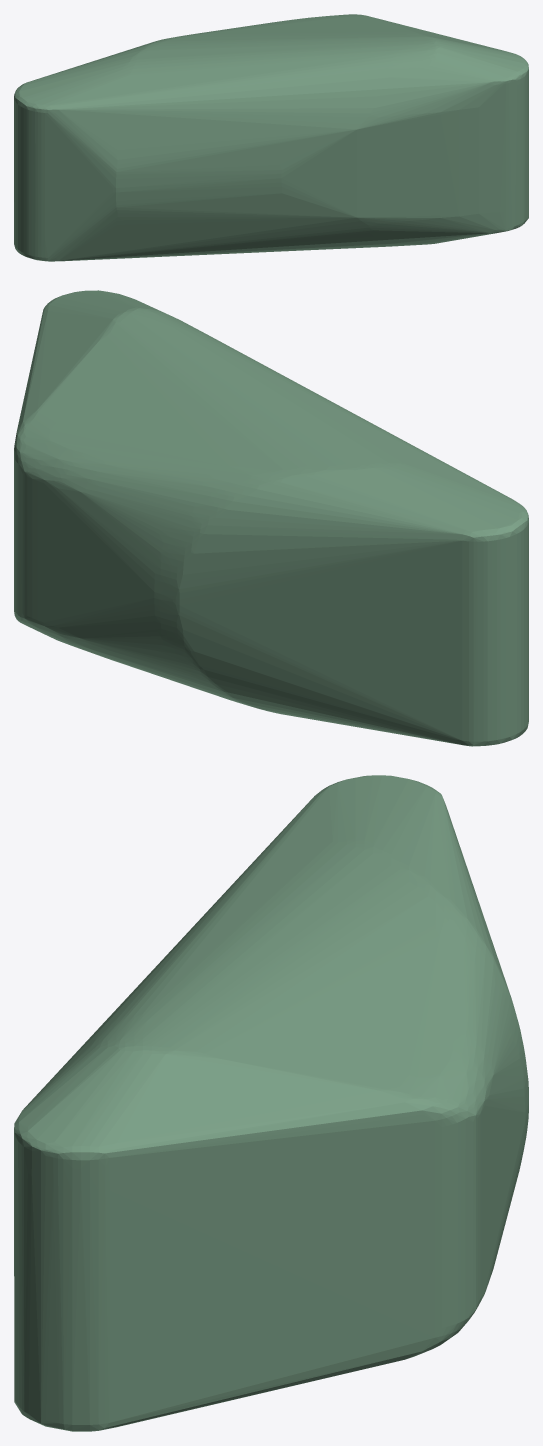
The picture shows the model from 3 angles, top to bottom: view 1: azimuth 30°, elevation 25°; view 2: azimuth 150°, elevation 25°; view 3: azimuth 270°, elevation 25°; orthographic projection. The views are drawn at different scales.
Parts seen in each view (by area): view 1: geometry_0; view 2: geometry_0; view 3: geometry_0.
Part boxes in pixels (x1,y1,x2,y2): geometry_0: (14,14,528,261); geometry_0: (14,290,528,746); geometry_0: (14,775,528,1431).
Bounding box in the file's own units: 0.0351 × 0.0155 × 0.0202.
